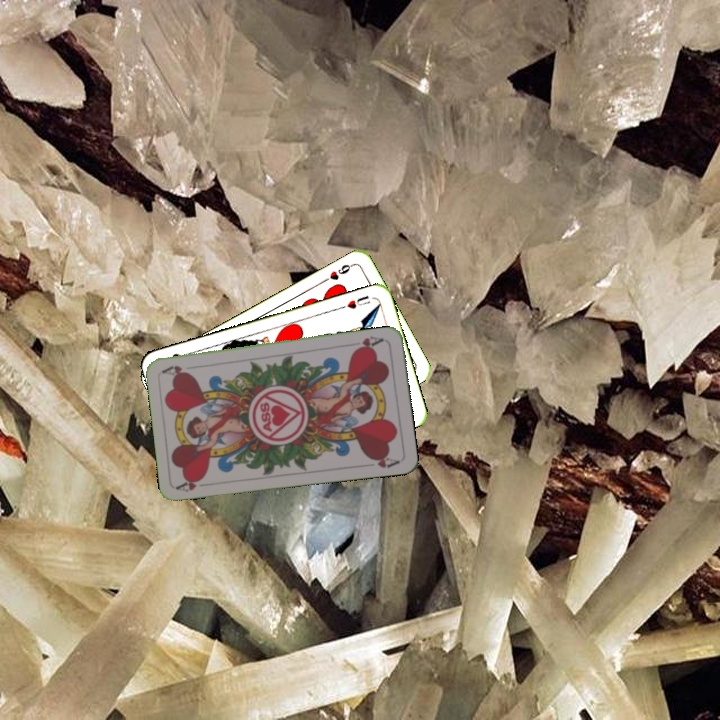H9: (319, 260, 356, 285)
HA: (174, 473, 214, 494), (350, 332, 386, 354)
HU: (336, 291, 373, 312)
